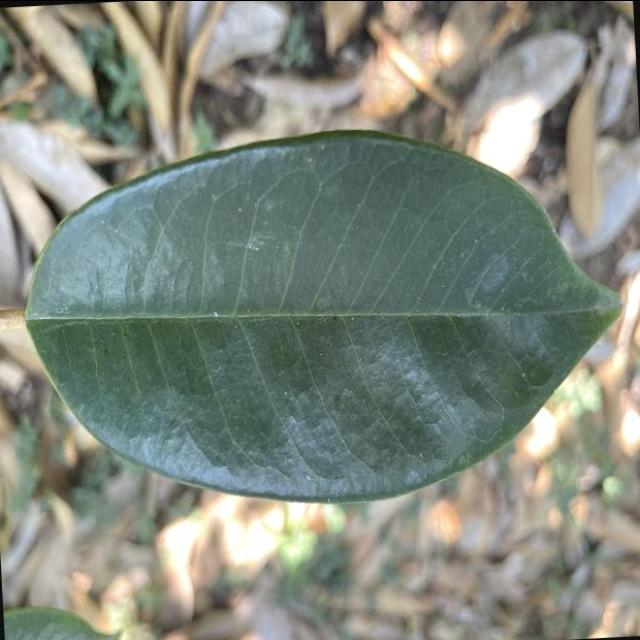No Disease: (4, 108, 640, 528)
